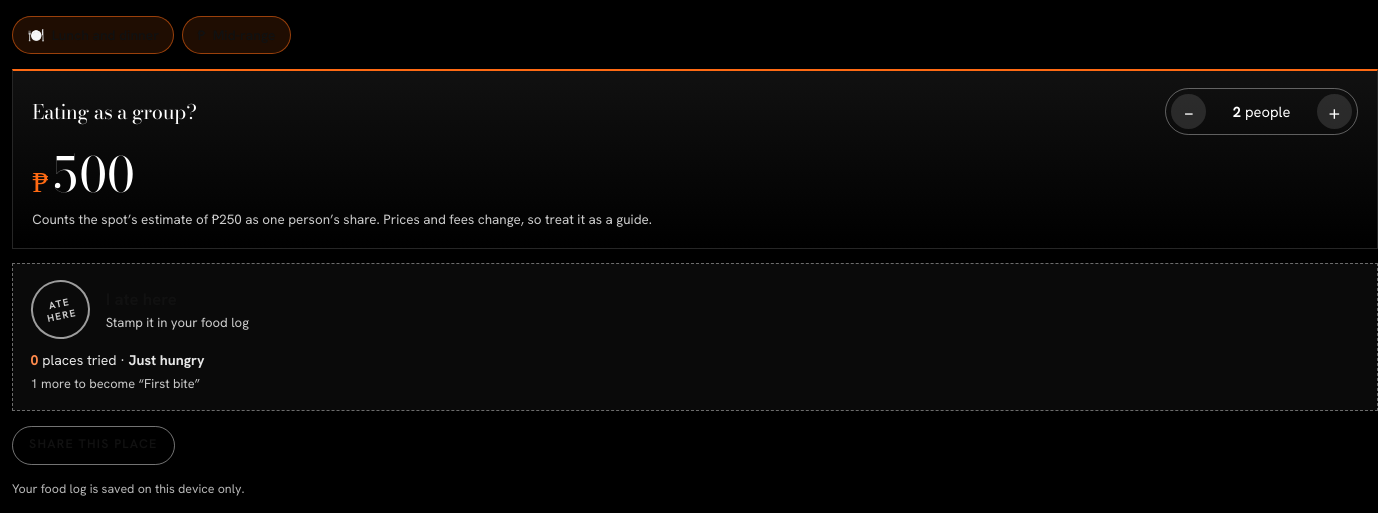
Scenario: FoodFun › stamps "I ate here", counts it and can undo it
Step 1. Click the button "ATE HERE I ate here Stamp it in your food log" → (141, 299), box x1=31 y1=280 x2=1359 y2=339
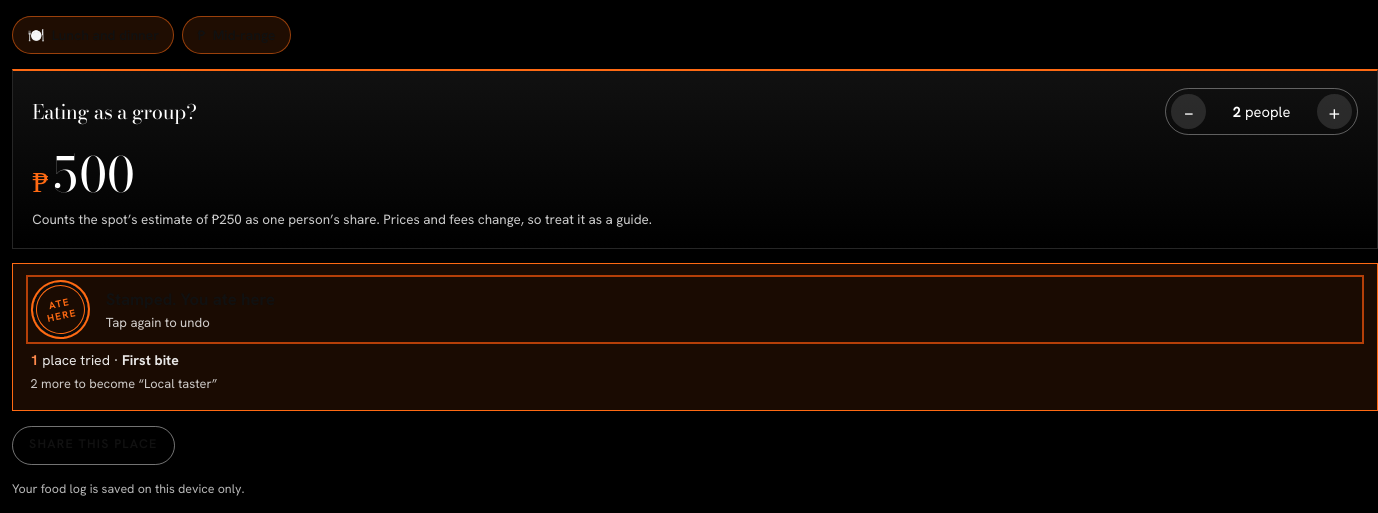
Check: the text "First bite" is shown, box x1=122 y1=351 x2=179 y2=369
Step 2. Click the button "ATE HERE Stamped. You ate here Tap again to undo" → (190, 299), box x1=31 y1=280 x2=1359 y2=339
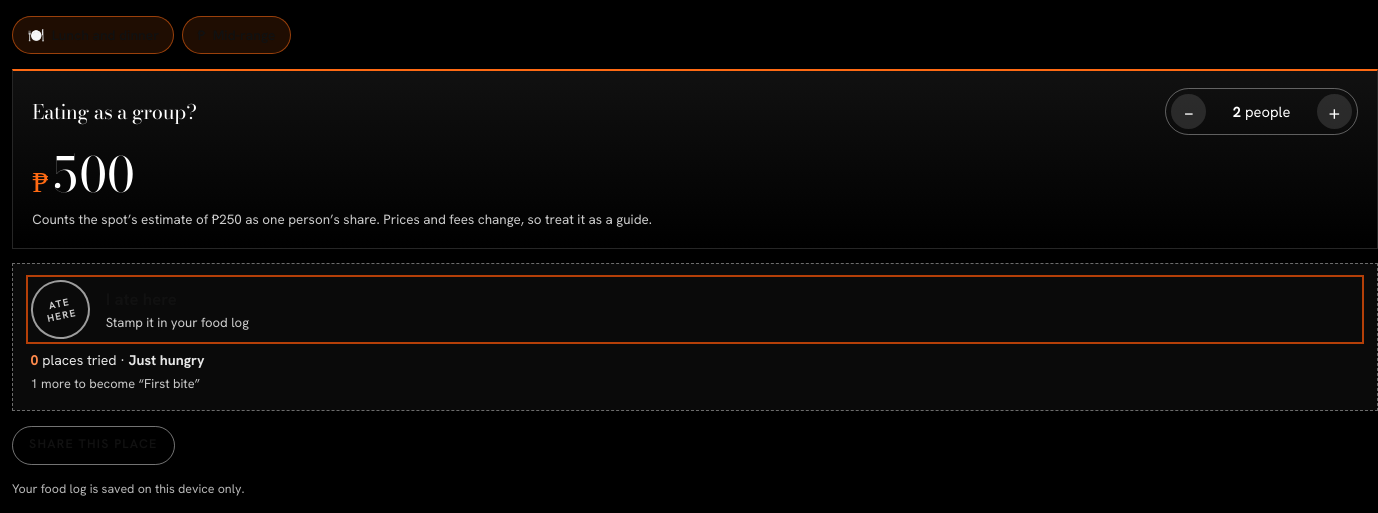
Check: the text "Just hungry" is shown, box x1=129 y1=351 x2=205 y2=369
